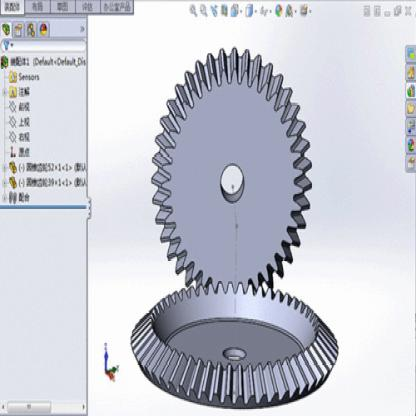FOD: (147, 46, 315, 300), (128, 280, 341, 412)
